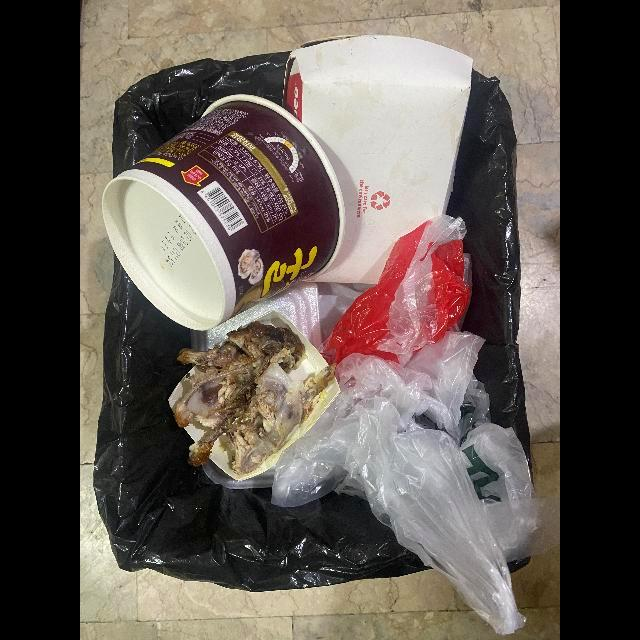cardboard: (101, 95, 345, 332), (282, 35, 473, 285)
left_over_food: (174, 322, 336, 475)
plastic_bag: (271, 330, 537, 636), (319, 215, 471, 367)
